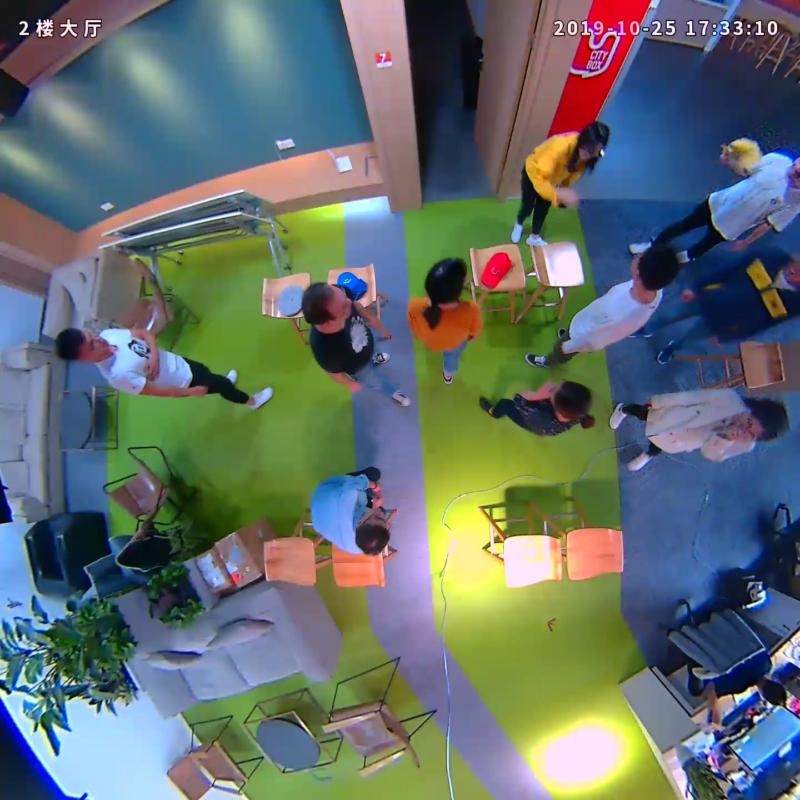head: (624, 232, 687, 300), (716, 390, 787, 450), (417, 247, 476, 314), (567, 118, 628, 179), (295, 275, 354, 335), (540, 376, 597, 430), (53, 325, 115, 371), (351, 511, 396, 564)
